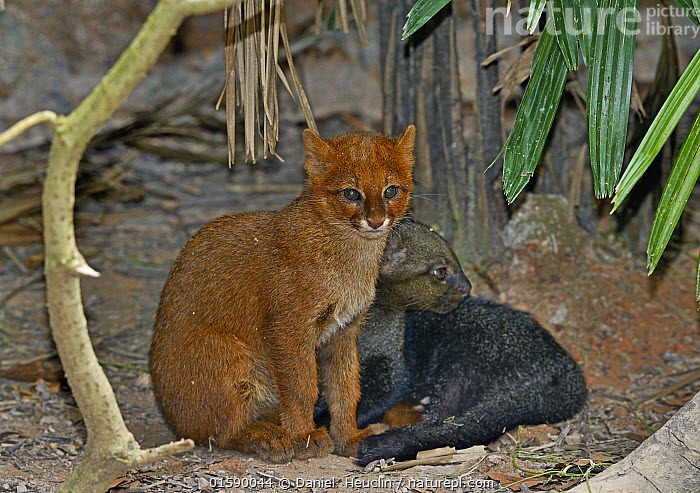Jaguarundi: (134, 123, 418, 465), (390, 216, 589, 447)
